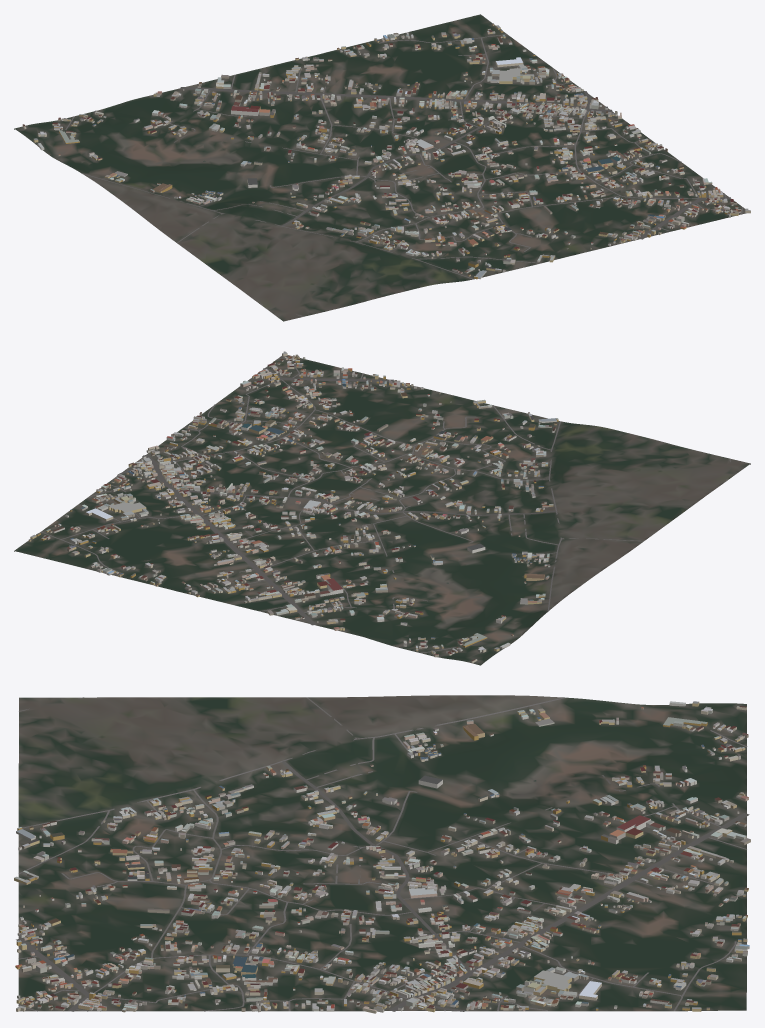
The picture shows the model from 3 angles, top to bottom: view 1: azimuth 30°, elevation 25°; view 2: azimuth 150°, elevation 25°; view 3: azimuth 270°, elevation 25°; orthographic projection. The views are drawn at different scales.
Visible parts, largest first — view 1: ground, buildings, roads; view 2: ground, buildings, roads; view 3: ground, buildings, roads.
Boxes of the visible parts, x1,y1,x2,y2 form: ground: [14, 14, 746, 321]; buildings: [22, 23, 750, 279]; roads: [65, 34, 743, 316]; ground: [14, 355, 750, 665]; buildings: [28, 351, 558, 663]; roads: [41, 356, 730, 653]; ground: [18, 695, 746, 1011]; buildings: [14, 701, 750, 1013]; roads: [16, 697, 749, 1011].
Bounding box in the file's own units: 1412 × 28.6 × 1417.
